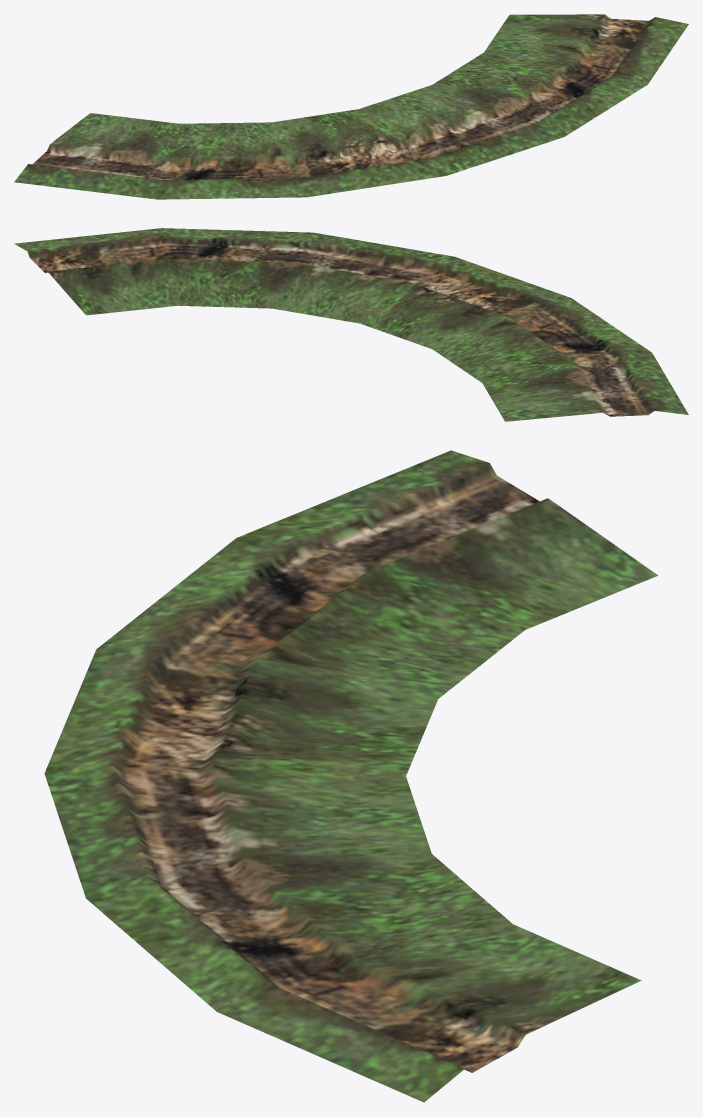
The model's file is eff_enem_MI_rayquaza_M_tail.obj.
The picture shows the model from 3 angles, top to bottom: view 1: azimuth 30°, elevation 25°; view 2: azimuth 150°, elevation 25°; view 3: azimuth 270°, elevation 25°; orthographic projection. The views are drawn at different scales.
Parts seen in each view (by area): view 1: polygon0; view 2: polygon0; view 3: polygon0.
Boxes of the visible parts, x1=… form: polygon0: x1=14, y1=14, x2=688, y2=199; polygon0: x1=14, y1=228, x2=688, y2=421; polygon0: x1=44, y1=450, x2=657, y2=1102.
Size of the model in its own units: 129 by 1 by 51.5.
1 material, 1 textured.
